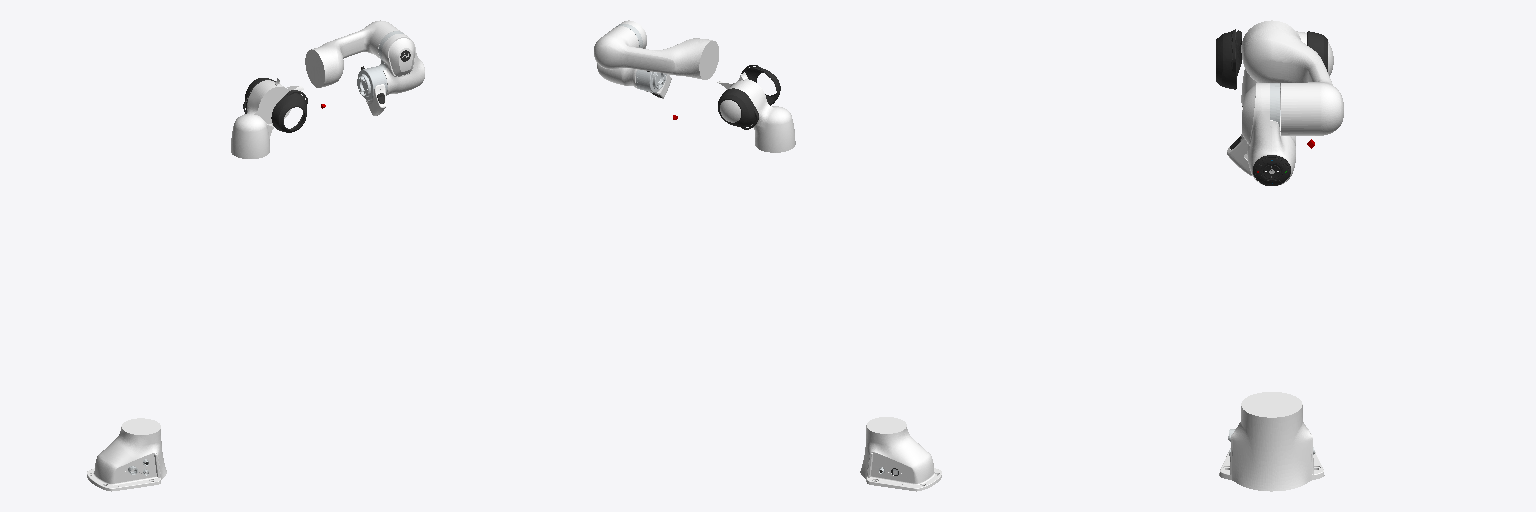
The robot description file, URDF, robot "panda":
<?xml version="1.0" ?>
<!-- =================================================================================== -->
<!-- |    This document was autogenerated by xacro from panda_arm.urdf.xacro           | -->
<!-- |    EDITING THIS FILE BY HAND IS NOT RECOMMENDED                                 | -->
<!-- =================================================================================== -->
<robot name="panda" xmlns:xacro="http://www.ros.org/wiki/xacro">
  <link name="panda_link0">
    <inertial>
      <!--      <origin
        xyz="-1.6981669084292E-15 0 -9.28958911114441E-07"
        rpy="0 0 0" />-->
      <origin rpy="0 0 0" xyz="0 0 0"/>
      <mass value="1.43675504024173"/>
      <inertia ixx="0" ixy="0" ixz="0" iyy="0" iyz="0" izz="0"/>
    </inertial>
    <visual>
      <geometry>
        <mesh filename="package://franka_description/meshes/visual/link0.dae"/>
      </geometry>
    </visual>
    <collision>
      <geometry>
        <mesh filename="package://franka_description/meshes/collision/link0.stl"/>
      </geometry>
    </collision>
  </link>
  <link name="panda_link1">
    <inertial>
      <!--      <origin
        xyz="-1.6981669084292E-15 0 -9.28958911114441E-07"
        rpy="0 0 0" />-->
      <origin rpy="0 0 0" xyz="0 0 0"/>
      <mass value="1.43675504024173"/>
      <inertia ixx="0" ixy="0" ixz="0" iyy="0" iyz="0" izz="0"/>
    </inertial>
    <visual>
      <geometry>
        <mesh filename="package://franka_description/meshes/visual/link1.dae"/>
      </geometry>
    </visual>
    <collision>
      <geometry>
        <mesh filename="package://franka_description/meshes/collision/link1.stl"/>
      </geometry>
    </collision>
  </link>
  <joint name="panda_joint1" type="revolute">
    <safety_controller k_position="100.0" k_velocity="40.0" soft_lower_limit="-2.8973" soft_upper_limit="2.8973"/>
    <origin rpy="0 0 0" xyz="0.35 0 0.708"/>
    <parent link="panda_link0"/>
    <child link="panda_link1"/>
    <axis xyz="0 0 1"/>
    <limit effort="87" lower="-2.8973" upper="2.8973" velocity="2.1750"/>
  </joint>
  <link name="panda_link2">
    <inertial>
      <!--      <origin
        xyz="-1.6981669084292E-15 0 -9.28958911114441E-07"
        rpy="0 0 0" />-->
      <origin rpy="0 0 0" xyz="0 0 0"/>
      <mass value="1.43675504024173"/>
      <inertia ixx="0" ixy="0" ixz="0" iyy="0" iyz="0" izz="0"/>
    </inertial>
    <visual>
      <geometry>
        <mesh filename="package://franka_description/meshes/visual/link2.dae"/>
      </geometry>
    </visual>
    <collision>
      <geometry>
        <mesh filename="package://franka_description/meshes/collision/link2.stl"/>
      </geometry>
    </collision>
  </link>
  <joint name="panda_joint2" type="revolute">
    <safety_controller k_position="100.0" k_velocity="40.0" soft_lower_limit="-1.7628" soft_upper_limit="1.7628"/>
    <origin rpy="-1.57079632679 0 0" xyz="0 0 0"/>
    <parent link="panda_link1"/>
    <child link="panda_link2"/>
    <axis xyz="0 0 1"/>
    <limit effort="87" lower="-1.7628" upper="1.7628" velocity="2.1750"/>
  </joint>
  <link name="panda_link3">
    <inertial>
      <!--      <origin
        xyz="-1.6981669084292E-15 0 -9.28958911114441E-07"
        rpy="0 0 0" />-->
      <origin rpy="0 0 0" xyz="0 0 0"/>
      <mass value="1.43675504024173"/>
      <inertia ixx="0" ixy="0" ixz="0" iyy="0" iyz="0" izz="0"/>
    </inertial>
    <visual>
      <geometry>
        <mesh filename="package://franka_description/meshes/visual/link3.dae"/>
      </geometry>
    </visual>
    <collision>
      <geometry>
        <mesh filename="package://franka_description/meshes/collision/link3.stl"/>
      </geometry>
    </collision>
  </link>
  <joint name="panda_joint3" type="revolute">
    <safety_controller k_position="100.0" k_velocity="40.0" soft_lower_limit="-2.8973" soft_upper_limit="2.8973"/>
    <origin rpy="1.57079632679 0 0" xyz="0 -0.316 0"/>
    <parent link="panda_link2"/>
    <child link="panda_link3"/>
    <axis xyz="0 0 1"/>
    <limit effort="87" lower="-2.8973" upper="2.8973" velocity="2.1750"/>
  </joint>
  <link name="panda_link4">
    <inertial>
      <!--      <origin
        xyz="-1.6981669084292E-15 0 -9.28958911114441E-07"
        rpy="0 0 0" />-->
      <origin rpy="0 0 0" xyz="0 0 0"/>
      <mass value="1.43675504024173"/>
      <inertia ixx="0" ixy="0" ixz="0" iyy="0" iyz="0" izz="0"/>
    </inertial>
    <visual>
      <geometry>
        <mesh filename="package://franka_description/meshes/visual/link4.dae"/>
      </geometry>
    </visual>
    <collision>
      <geometry>
        <mesh filename="package://franka_description/meshes/collision/link4.stl"/>
      </geometry>
    </collision>
  </link>
  <joint name="panda_joint4" type="revolute">
    <safety_controller k_position="100.0" k_velocity="40.0" soft_lower_limit="-3.0718" soft_upper_limit="-0.0698"/>
    <origin rpy="1.57079632679 0 0" xyz="0.0825 0 0"/>
    <parent link="panda_link3"/>
    <child link="panda_link4"/>
    <axis xyz="0 0 1"/>
    <limit effort="87" lower="-3.0718" upper="-0.0698" velocity="2.1750"/>
  </joint>
  <link name="panda_link5">
    <inertial>
      <!--      <origin
        xyz="-1.6981669084292E-15 0 -9.28958911114441E-07"
        rpy="0 0 0" />-->
      <origin rpy="0 0 0" xyz="0 0 0"/>
      <mass value="1.43675504024173"/>
      <inertia ixx="0" ixy="0" ixz="0" iyy="0" iyz="0" izz="0"/>
    </inertial>
    <visual>
      <geometry>
        <mesh filename="package://franka_description/meshes/visual/link5.dae"/>
      </geometry>
    </visual>
    <collision>
      <geometry>
        <mesh filename="package://franka_description/meshes/collision/link5.stl"/>
      </geometry>
    </collision>
  </link>
  <joint name="panda_joint5" type="revolute">
    <safety_controller k_position="100.0" k_velocity="40.0" soft_lower_limit="-2.8973" soft_upper_limit="2.8973"/>
    <origin rpy="-1.57079632679 0 0" xyz="-0.0825 0.384 0"/>
    <parent link="panda_link4"/>
    <child link="panda_link5"/>
    <axis xyz="0 0 1"/>
    <limit effort="12" lower="-2.8973" upper="2.8973" velocity="2.6100"/>
  </joint>
  <link name="panda_link6">
    <inertial>
      <!--      <origin
        xyz="-1.6981669084292E-15 0 -9.28958911114441E-07"
        rpy="0 0 0" />-->
      <origin rpy="0 0 0" xyz="0 0 0"/>
      <mass value="1.43675504024173"/>
      <inertia ixx="0" ixy="0" ixz="0" iyy="0" iyz="0" izz="0"/>
    </inertial>
    <visual>
      <geometry>
        <mesh filename="package://franka_description/meshes/visual/link6.dae"/>
      </geometry>
    </visual>
    <collision>
      <geometry>
        <mesh filename="package://franka_description/meshes/collision/link6.stl"/>
      </geometry>
    </collision>
  </link>
  <joint name="panda_joint6" type="revolute">
    <safety_controller k_position="100.0" k_velocity="40.0" soft_lower_limit="-0.0175" soft_upper_limit="3.7525"/>
    <origin rpy="1.57079632679 0 0" xyz="0 0 0"/>
    <parent link="panda_link5"/>
    <child link="panda_link6"/>
    <axis xyz="0 0 1"/>
    <limit effort="12" lower="-0.0175" upper="3.7525" velocity="2.6100"/>
  </joint>
  <link name="panda_link7">
    <inertial>
      <!--      <origin
        xyz="-1.6981669084292E-15 0 -9.28958911114441E-07"
        rpy="0 0 0" />-->
      <origin rpy="0 0 0" xyz="0 0 0"/>
      <mass value="1.43675504024173"/>
      <inertia ixx="0" ixy="0" ixz="0" iyy="0" iyz="0" izz="0"/>
    </inertial>
    <visual>
      <geometry>
        <mesh filename="package://franka_description/meshes/visual/link7.dae"/>
      </geometry>
    </visual>
    <collision>
      <geometry>
        <mesh filename="package://franka_description/meshes/collision/link7.stl"/>
      </geometry>
    </collision>
  </link>
  <joint name="panda_joint7" type="revolute">
    <safety_controller k_position="100.0" k_velocity="40.0" soft_lower_limit="-2.8973" soft_upper_limit="2.8973"/>
    <origin rpy="1.57079632679 0 0" xyz="0.088 0 0"/>
    <parent link="panda_link6"/>
    <child link="panda_link7"/>
    <axis xyz="0 0 1"/>
    <limit effort="12" lower="-2.8973" upper="2.8973" velocity="2.6100"/>
  </joint>
  <link name="panda_link8">
    <visual>
      <origin xyz="0 0 0" rpy="0 0 0"/>
      <geometry>
        <box size="0.01 0.01 0.01" />
      </geometry>
      <material
        name="">
        <color
          rgba="0.8 0.0 0.0 1.0" />
      </material>
     </visual>

    <inertial>
      <origin xyz="0.0 0.0 0.0" rpy="0 0 0"/>
      <mass value="0.001"/>
      <inertia ixx="1.0e-06" ixy="0.0" ixz="0.0" iyy="1.0e-06" iyz="0.0" izz="1.0e-06" />
    </inertial>
  </link>


  <joint name="panda_joint8" type="fixed">
      <origin rpy="3.141592654 0 -0.785398163" xyz="0.07071 -0.07071 0.1923"/>
    <parent link="panda_link7"/>
    <child link="panda_link8"/>
    <axis xyz="0 0 0"/>
  </joint>
</robot>

--- Render facts (derived) ---
Views: 3 orthographic renders of the robot side by side, from view 1: azimuth 30°, elevation 25°; view 2: azimuth 150°, elevation 25°; view 3: azimuth 270°, elevation 25°.
Robot: panda — 9 links, 8 joints (7 revolute, 1 fixed); root link panda_link0; default pose: joints at zero except 1 at the middle of their limits (panda_joint4 = -1.57).
Links seen in each view (by area): view 1: panda_link0, panda_link3, panda_link5, panda_link6, panda_link7, panda_link4; view 2: panda_link0, panda_link5, panda_link3, panda_link6, panda_link7, panda_link4; view 3: panda_link0, panda_link5, panda_link6, panda_link4, panda_link3, panda_link7.
Boxes of the visible links, box(x1,y1,x2,y2) form: panda_link0: box(87, 418, 166, 491); panda_link3: box(231, 78, 290, 158); panda_link5: box(305, 20, 402, 87); panda_link6: box(378, 31, 424, 95); panda_link7: box(357, 66, 387, 115); panda_link4: box(271, 78, 307, 132); panda_link0: box(860, 417, 941, 491); panda_link5: box(594, 26, 718, 79); panda_link3: box(718, 79, 795, 152); panda_link6: box(597, 20, 646, 88); panda_link7: box(636, 70, 671, 98); panda_link4: box(717, 65, 780, 105); panda_link0: box(1219, 392, 1324, 491); panda_link5: box(1241, 20, 1343, 135); panda_link6: box(1242, 83, 1295, 185); panda_link4: box(1216, 29, 1241, 89); panda_link3: box(1241, 31, 1333, 109); panda_link7: box(1227, 110, 1280, 175).
Size in the robot's own frame: 1.05 by 0.2309 by 1.16 metres.
6 mesh visuals loaded from 8 distinct referenced files (6 Collada DAE); not drawn: 2 (reference not matched to a file when rendering).